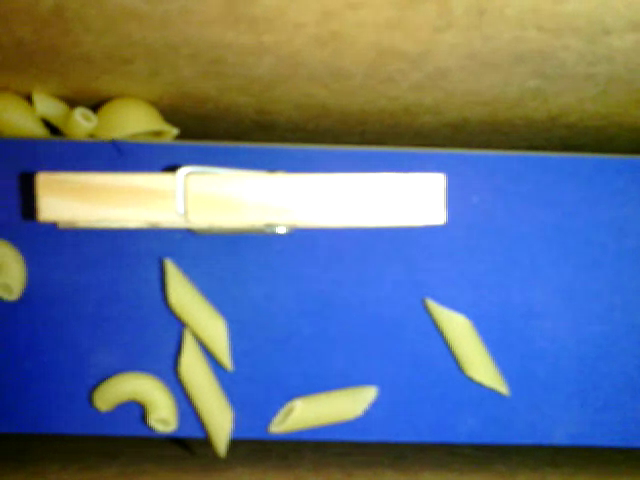elbow: (89, 370, 181, 434), (33, 91, 92, 138), (1, 234, 31, 303)
penne: (422, 291, 509, 398), (161, 258, 232, 369), (174, 327, 234, 458), (267, 382, 379, 436)
shell: (87, 98, 181, 142), (1, 89, 56, 135)
